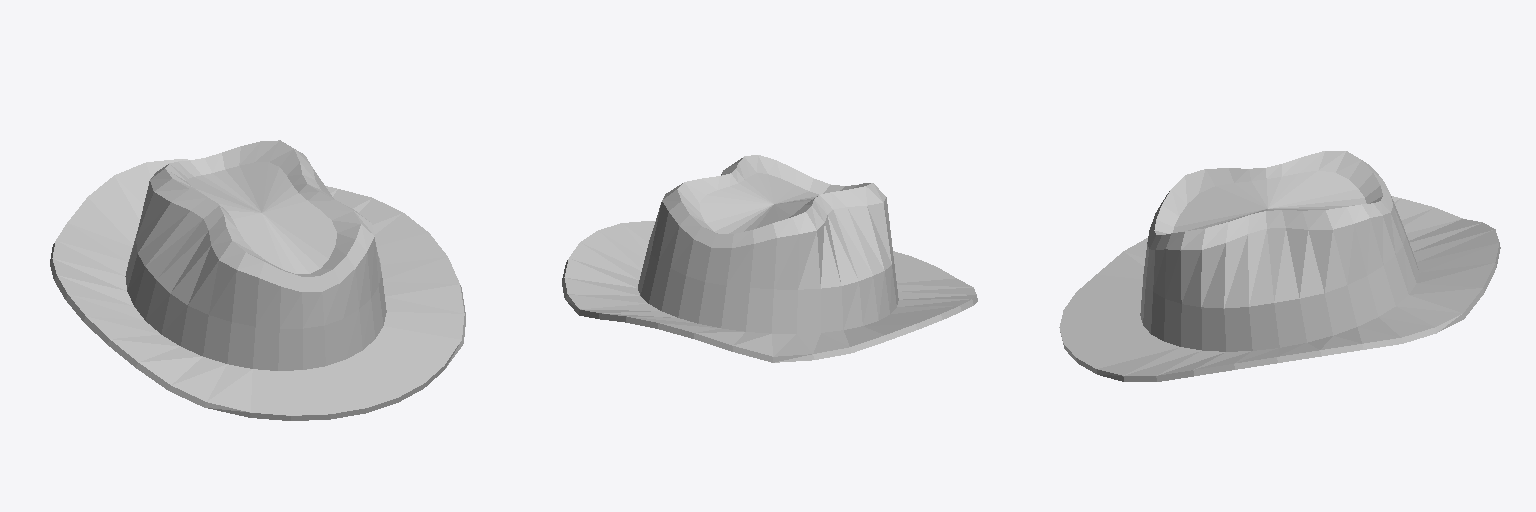
The model's file is cowboyhat_basic.sgm.obj.
3 views of the same model, side by side, from view 1: azimuth 30°, elevation 25°; view 2: azimuth 150°, elevation 25°; view 3: azimuth 270°, elevation 25° (orthographic).
Size of the model in its own units: 0.6292 by 0.267 by 0.6917.